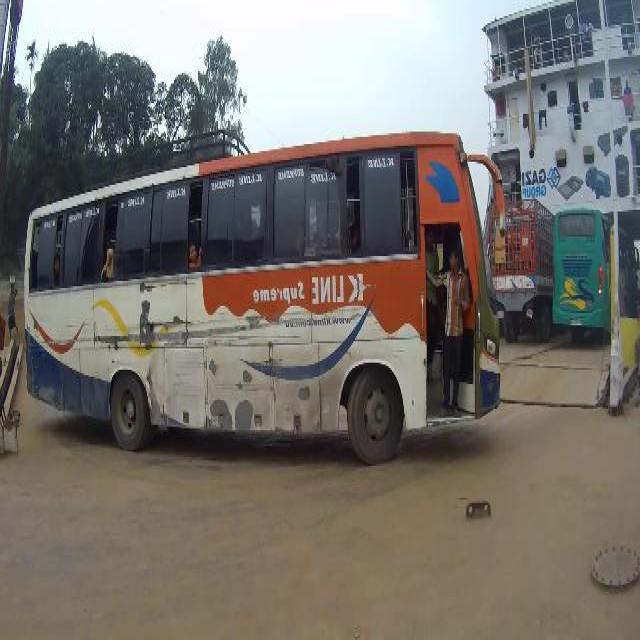Bus: (20, 135, 502, 439), (553, 207, 610, 335)
